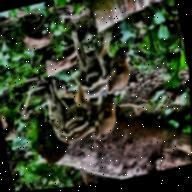boar: (39, 63, 123, 153), (67, 14, 136, 104)
